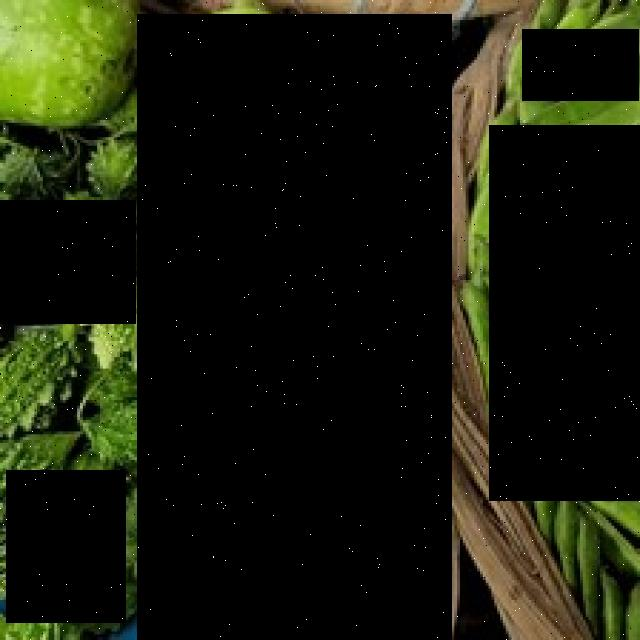Beans: (489, 125, 640, 501), (523, 29, 640, 101)
Bitter_Gourd: (6, 470, 126, 623), (0, 200, 136, 324)
Bottle_Gourd: (138, 14, 452, 640)
